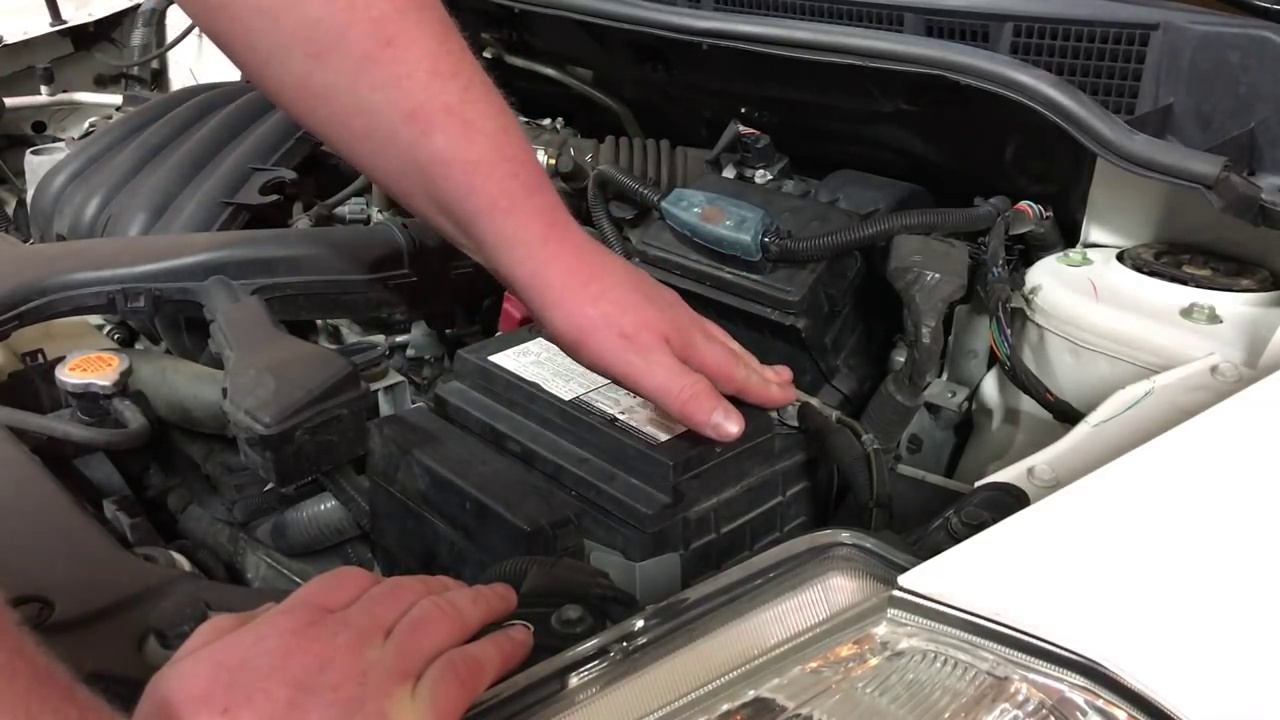battery: (450, 308, 809, 470)
neg_touched: (732, 358, 825, 443)
pos_touched: (464, 246, 581, 350)
